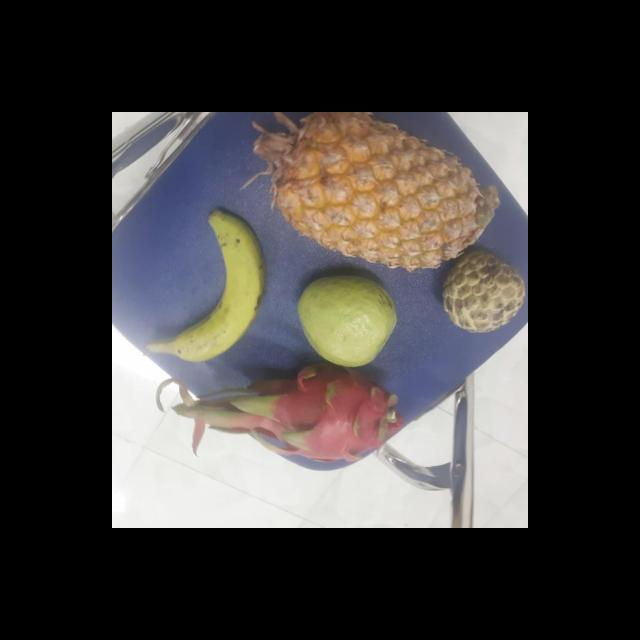Sakya fruit: (437, 250, 525, 332)
banana: (158, 210, 262, 360)
guava: (294, 273, 396, 367)
pineapple: (256, 112, 488, 266)
pitaya: (232, 360, 398, 468)
